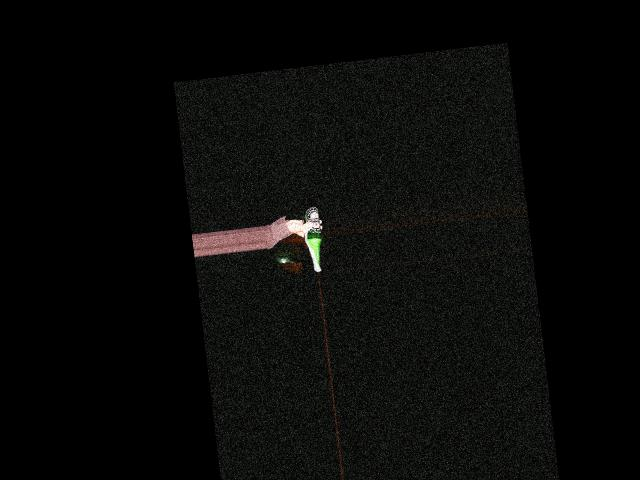beer: (300, 204, 326, 270)
